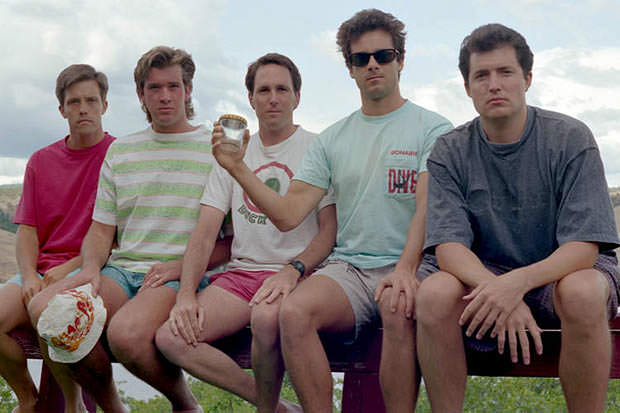bare: (464, 82, 532, 118), (349, 63, 404, 98), (248, 94, 301, 128), (141, 94, 191, 128), (64, 107, 107, 135)
